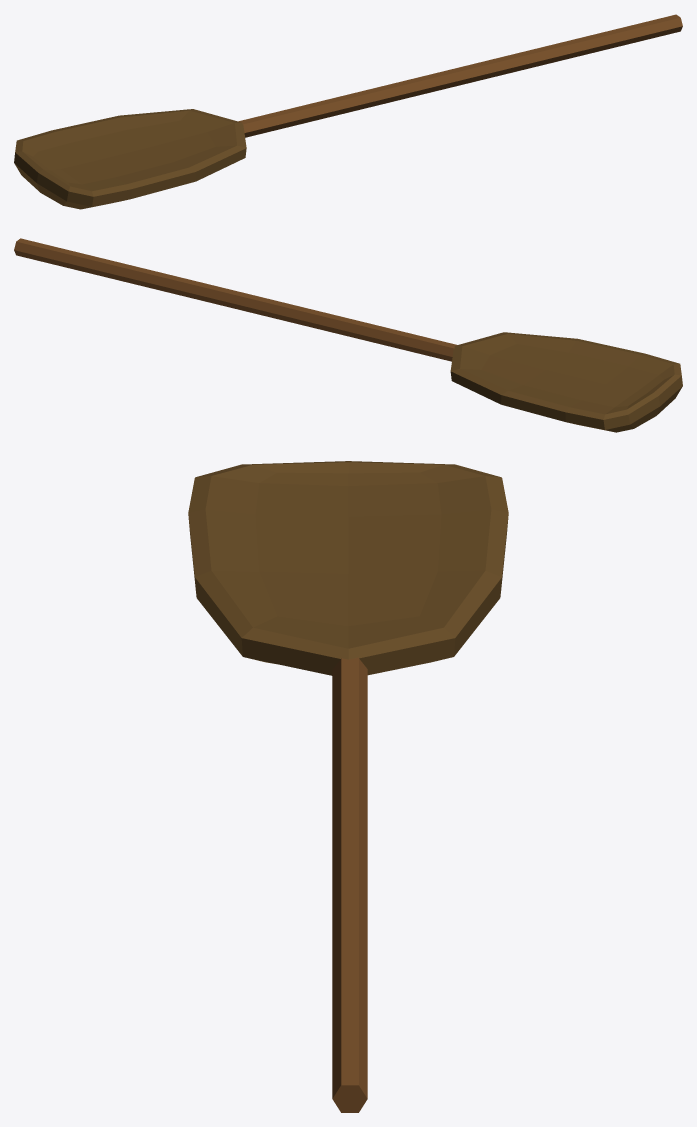
Rendered from kurek6.fbx.
3 renders of one model, top to bottom at view 1: azimuth 30°, elevation 25°; view 2: azimuth 150°, elevation 25°; view 3: azimuth 270°, elevation 25°, orthographic. The views are drawn at different scales.
Parts seen in each view (by area): view 1: Cylinder.052; view 2: Cylinder.052; view 3: Cylinder.052.
Part boxes in pixels (x1=…): Cylinder.052: x1=14, y1=14, x2=682, y2=209; Cylinder.052: x1=14, y1=238, x2=682, y2=432; Cylinder.052: x1=188, y1=461, x2=508, y2=1112.
Size of the model in its own units: 1252 by 52.16 by 271.
